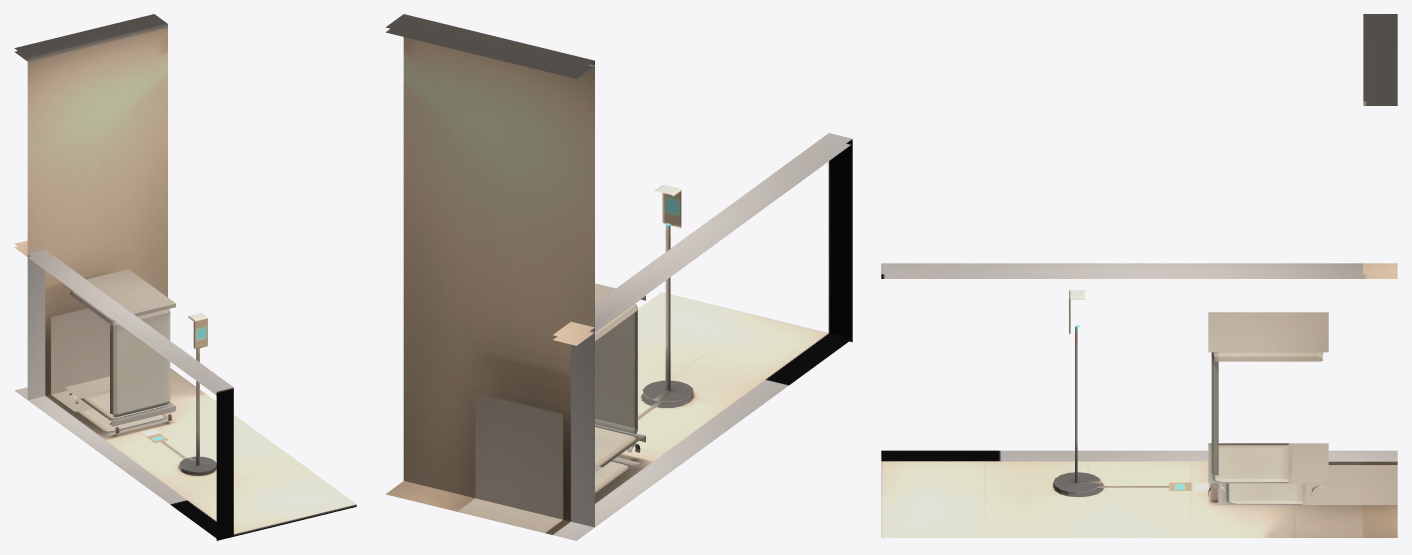
File: side-back-left.glb
The picture shows the model from 3 angles, left to right: view 1: azimuth 30°, elevation 25°; view 2: azimuth 150°, elevation 25°; view 3: azimuth 270°, elevation 25°; orthographic projection. The views are drawn at different scales.
Visible parts, largest first — view 1: sideBackLeft; view 2: sideBackLeft; view 3: sideBackLeft.
Boxes of the visible parts, x1=… form: sideBackLeft: x1=14, y1=14, x2=356, y2=540; sideBackLeft: x1=385, y1=14, x2=852, y2=540; sideBackLeft: x1=881, y1=14, x2=1397, y2=537.
Size of the model in its own units: 1.2 by 2.82 by 3.
1 material, 1 textured.
